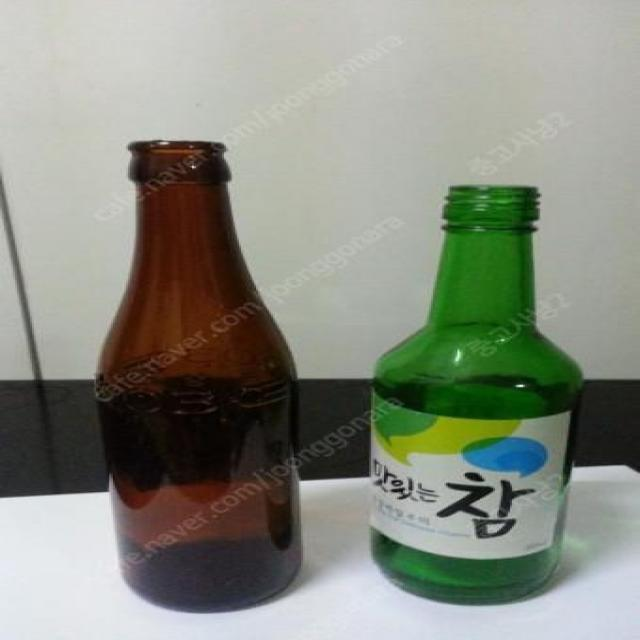beer-bottle: (92, 128, 314, 610)
soju-bottle: (354, 180, 600, 602)
